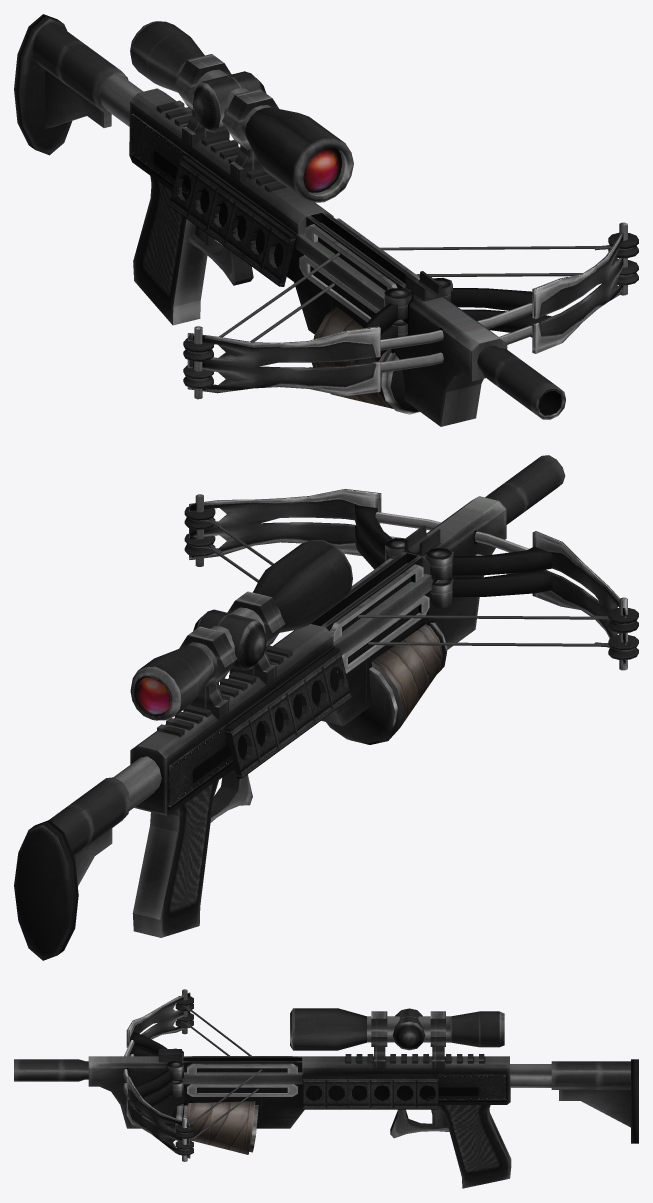
The model's file is nefariousNeedler.fbx.
3 views of the same model, one above another, from view 1: azimuth 30°, elevation 25°; view 2: azimuth 150°, elevation 25°; view 3: azimuth 270°, elevation 25° (orthographic). The views are drawn at different scales.
Parts seen in each view (by area): view 1: NefariousNeedler_resources_assets_2156:NefariousNeedler_0, NefariousNeedler_resources_assets_2156:Part2_0, Part2_resources_assets_2274:Part2_0, Part3_resources_assets_2290:Part3_0, NefariousNeedler_resources_assets_2156:Part3_0; view 2: NefariousNeedler_resources_assets_2156:NefariousNeedler_0, NefariousNeedler_resources_assets_2156:Part2_0, Part2_resources_assets_2274:Part2_0, NefariousNeedler_resources_assets_2156:Part3_0; view 3: NefariousNeedler_resources_assets_2156:NefariousNeedler_0, Part2_resources_assets_2274:Part2_0, NefariousNeedler_resources_assets_2156:Part2_0, Part3_resources_assets_2290:Part3_0, NefariousNeedler_resources_assets_2156:Part3_0.
Part boxes in pixels (<box>): NefariousNeedler_resources_assets_2156:NefariousNeedler_0: <box>14,14,565,426</box>; NefariousNeedler_resources_assets_2156:Part2_0: <box>183,288,411,399</box>; Part2_resources_assets_2274:Part2_0: <box>433,222,638,353</box>; Part3_resources_assets_2290:Part3_0: <box>380,245,634,277</box>; NefariousNeedler_resources_assets_2156:Part3_0: <box>187,252,340,381</box>; NefariousNeedler_resources_assets_2156:NefariousNeedler_0: <box>14,455,565,960</box>; NefariousNeedler_resources_assets_2156:Part2_0: <box>426,531,638,670</box>; Part2_resources_assets_2274:Part2_0: <box>184,489,404,569</box>; NefariousNeedler_resources_assets_2156:Part3_0: <box>358,615,635,652</box>; NefariousNeedler_resources_assets_2156:NefariousNeedler_0: <box>14,1008,638,1188</box>; Part2_resources_assets_2274:Part2_0: <box>126,1061,193,1161</box>; NefariousNeedler_resources_assets_2156:Part2_0: <box>126,989,193,1056</box>; Part3_resources_assets_2290:Part3_0: <box>177,1069,262,1151</box>; NefariousNeedler_resources_assets_2156:Part3_0: <box>178,1004,251,1055</box>.
Size of the model in its own units: 0.5339 by 0.3202 by 1.04.
1 material, 1 textured.
